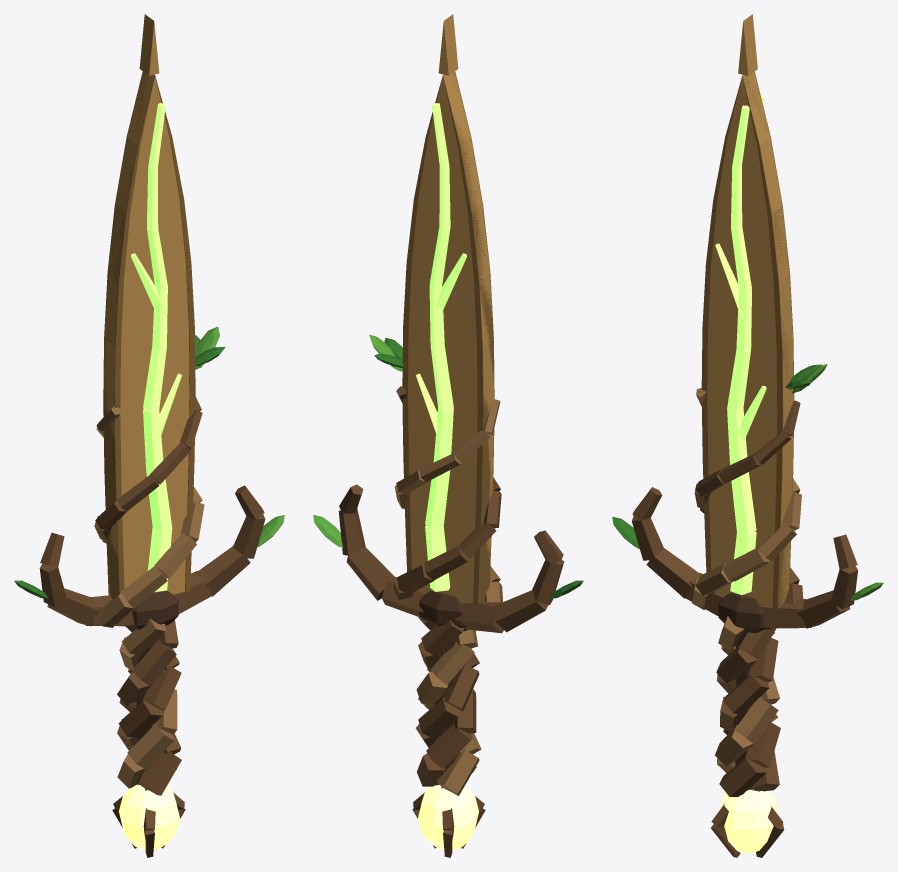
Rendered from roots_shortsword.glb.
3 renders of one model, left to right at view 1: azimuth 30°, elevation 25°; view 2: azimuth 150°, elevation 25°; view 3: azimuth 330°, elevation 25°, orthographic.
Visible parts, largest first — view 1: roots_shortsword; view 2: roots_shortsword; view 3: roots_shortsword.
Part boxes in pixels (x1=…): roots_shortsword: x1=14, y1=14, x2=284, y2=857; roots_shortsword: x1=313, y1=14, x2=583, y2=857; roots_shortsword: x1=612, y1=14, x2=883, y2=857.
Bounding box in the file's own units: 0.4433 × 1.31 × 0.1137.
